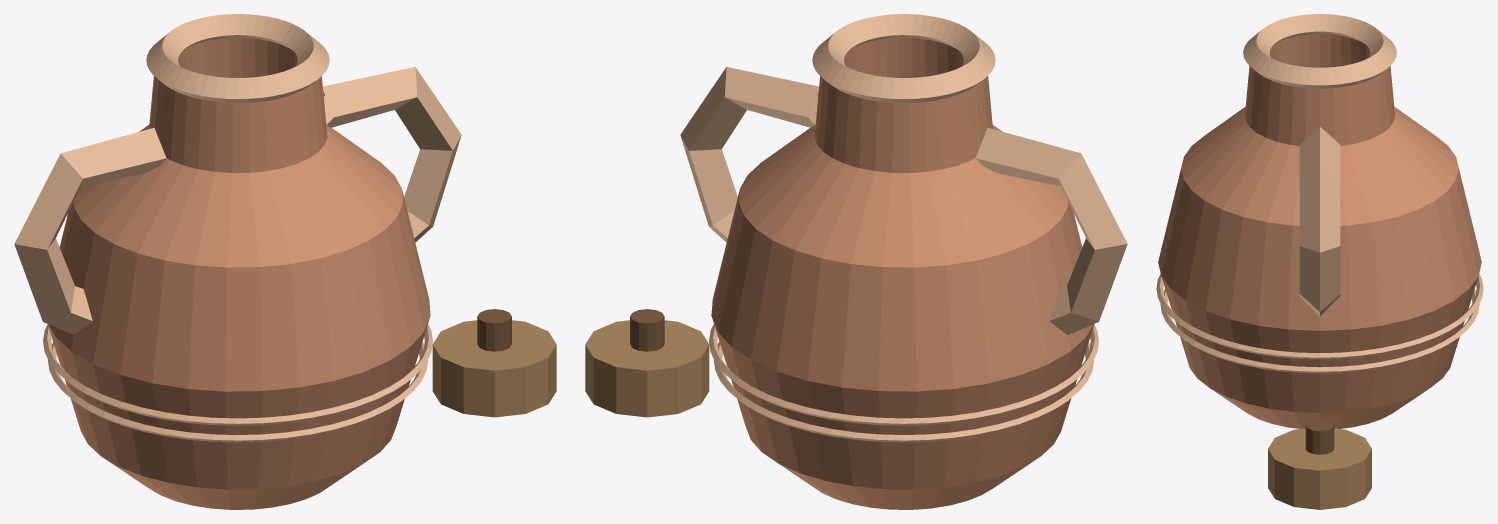
3 views of the same model, side by side, from view 1: azimuth 30°, elevation 25°; view 2: azimuth 150°, elevation 25°; view 3: azimuth 270°, elevation 25° (orthographic). The views are drawn at different scales.
Parts seen in each view (by area): view 1: BA-0024 batched; view 2: BA-0024 batched; view 3: BA-0024 batched.
Part boxes in pixels (x1,y1,x2,y2): BA-0024 batched: (14,14,556,509); BA-0024 batched: (585,14,1127,509); BA-0024 batched: (1156,14,1483,509).
Bounding box in the file's own units: 0.8948 × 0.673 × 0.566.
